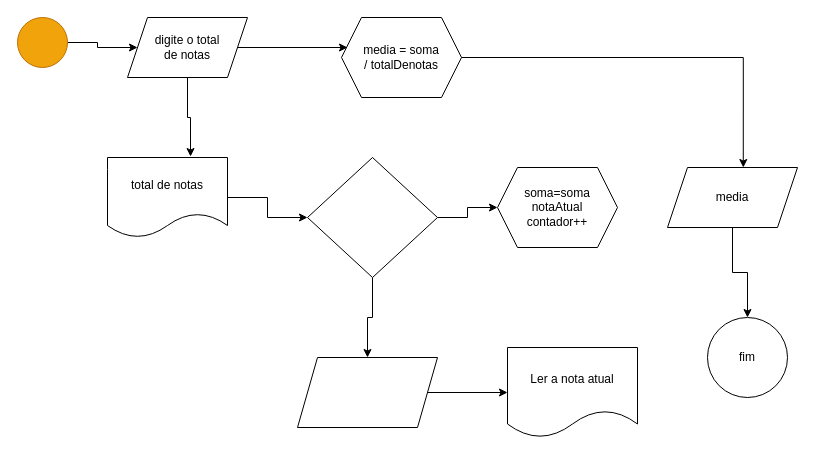
This 815x455 diagram has some shape labels left out. Each missing label, with the centre of its shape:
informe a nota N: point 367,392
inicio: point 42,42
notas atuais < totalNotas: point 372,217
